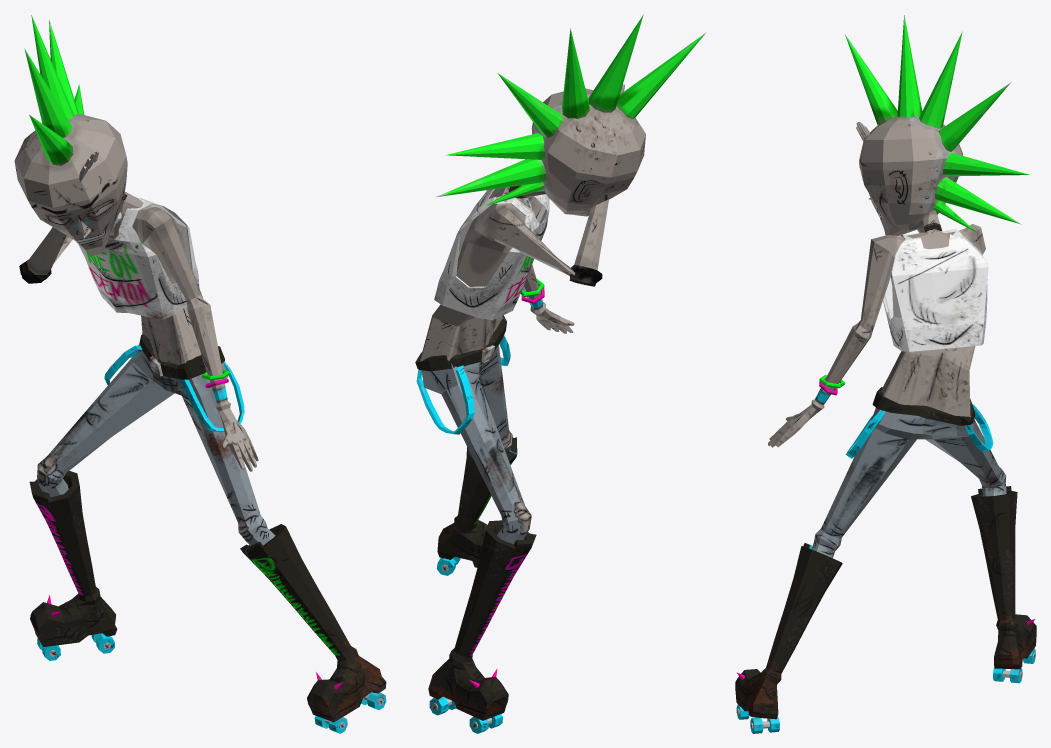
File: punkAnimation_000003.obj
The picture shows the model from 3 angles, left to right: view 1: azimuth 30°, elevation 25°; view 2: azimuth 150°, elevation 25°; view 3: azimuth 270°, elevation 25°; orthographic projection. The views are drawn at different scales.
Parts seen in each view (by area): view 1: Cube.004_Cube.003; view 2: Cube.004_Cube.003; view 3: Cube.004_Cube.003.
Part boxes in pixels (x1=…): Cube.004_Cube.003: x1=14, y1=15, x2=386, y2=733; Cube.004_Cube.003: x1=415, y1=14, x2=705, y2=733; Cube.004_Cube.003: x1=735, y1=15, x2=1036, y2=733.
Size of the model in its own units: 3.19 by 6.71 by 3.01.
